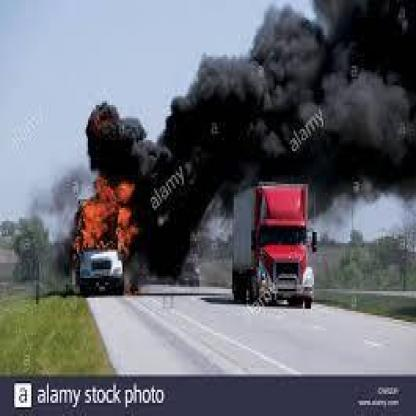fire: (74, 186, 134, 250)
smoke: (80, 0, 413, 180), (111, 182, 211, 282)
